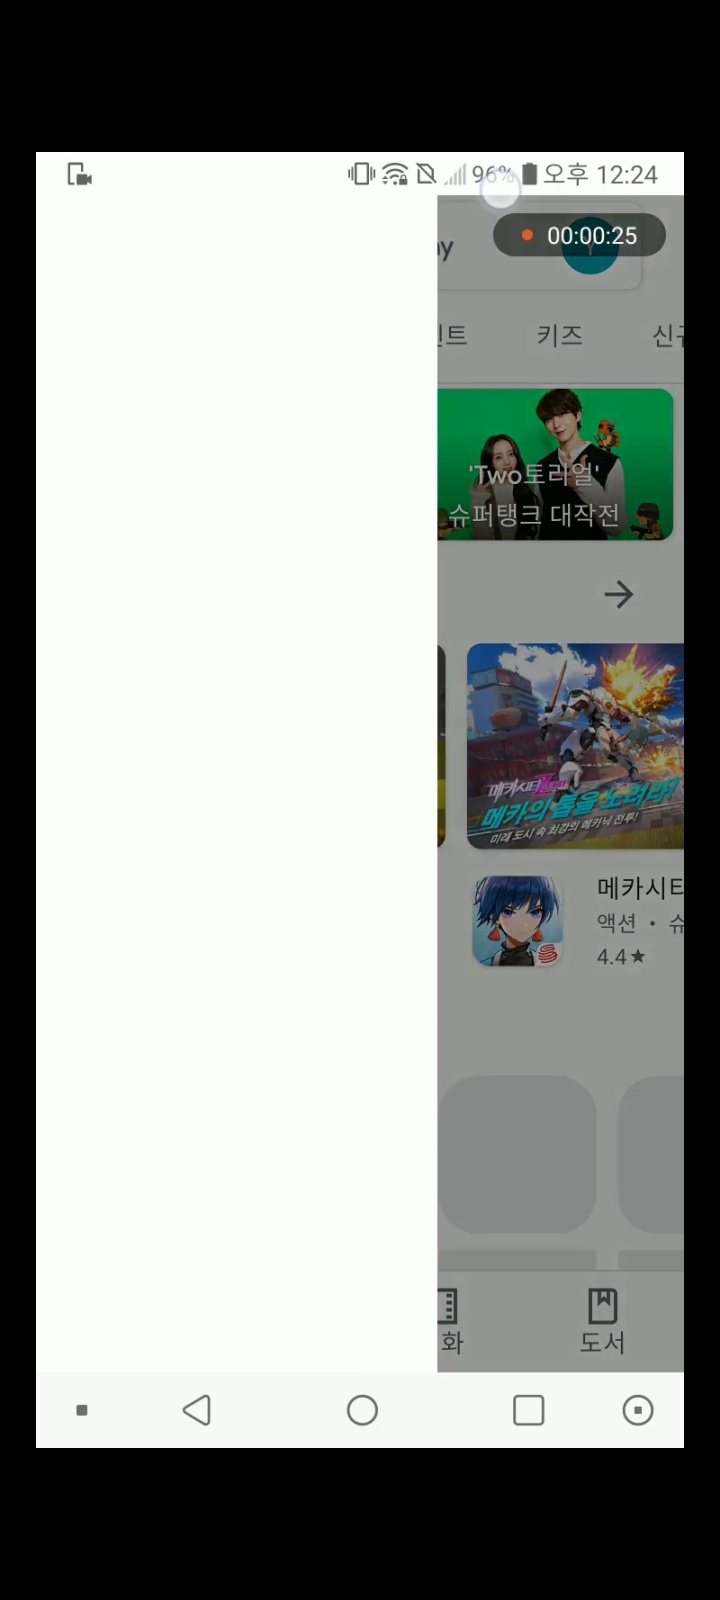Cursor: (478, 169, 523, 214)
